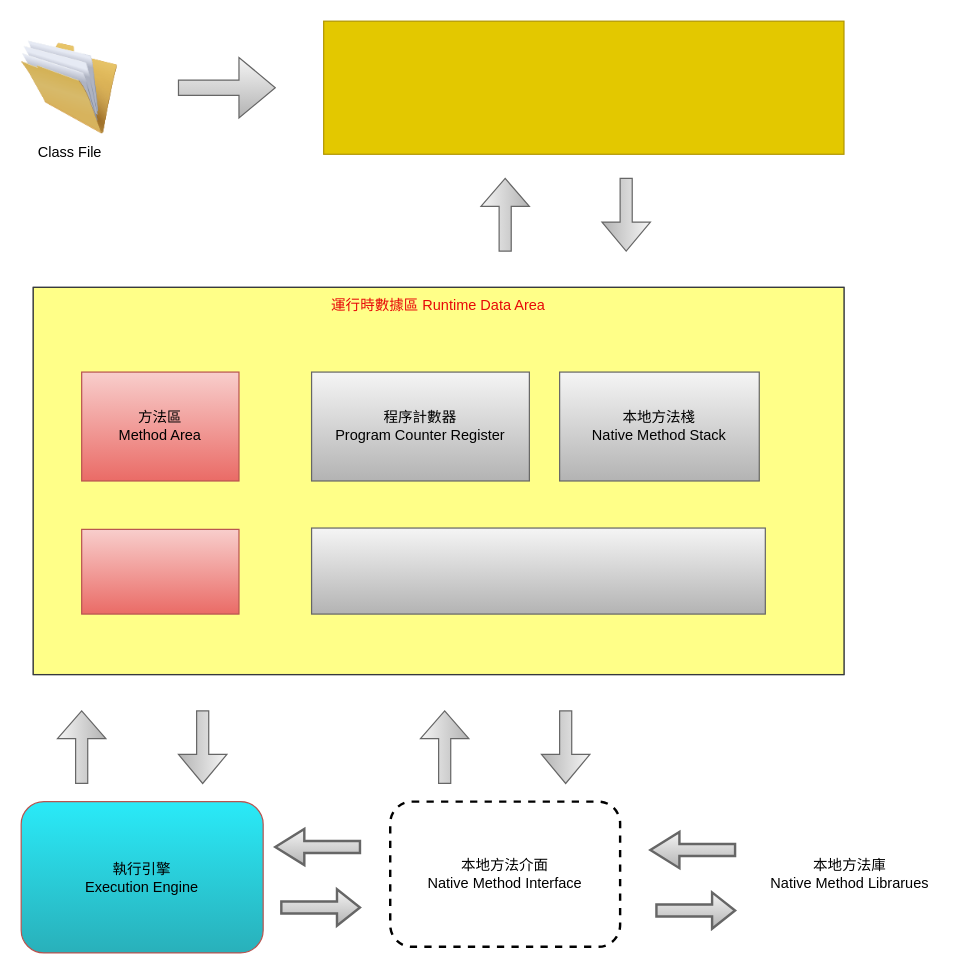
Image size: 962x974. Some labels were removed from this diagram. The box of each missing label's shape, as (x1, y1, x2, y2) in pixels:
JVM 虛擬機棧 Java Visual Machine Stack: (310, 527, 765, 614)
堆 Heap: (80, 528, 239, 614)
類別加載器子系統 Class Loader Subsystem: (322, 20, 844, 154)
